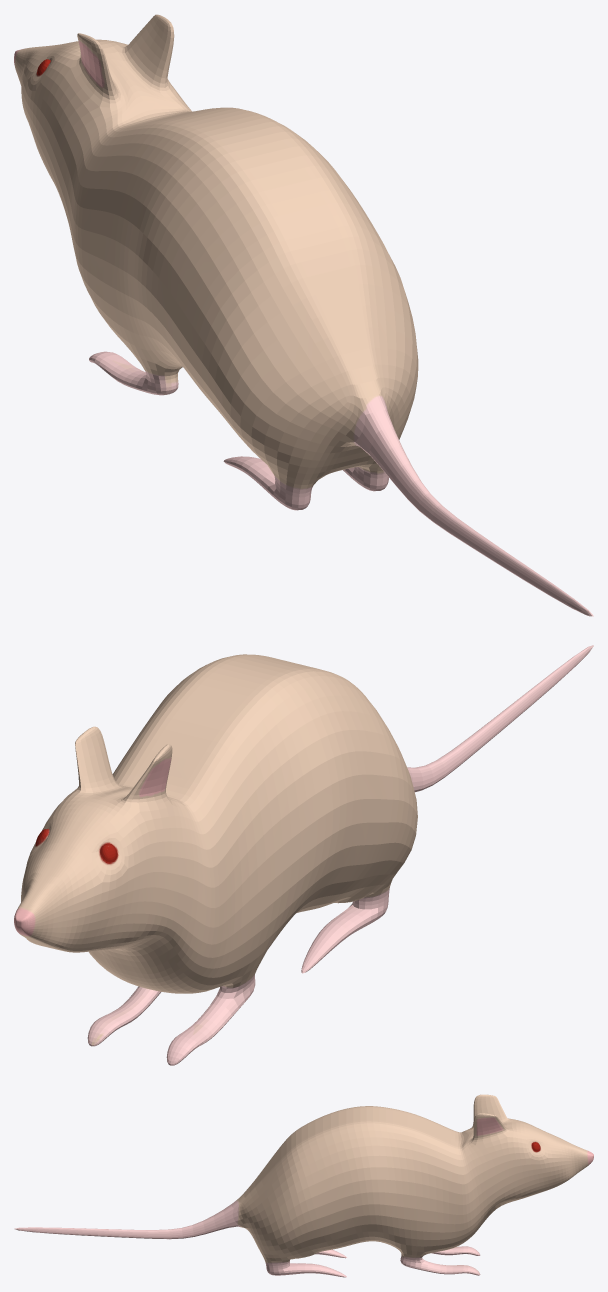
File: mouse.obj
3 renders of one model, top to bottom at view 1: azimuth 30°, elevation 25°; view 2: azimuth 150°, elevation 25°; view 3: azimuth 270°, elevation 25°, orthographic. The views are drawn at different scales.
Visible parts, largest first — view 1: mouse_2; view 2: mouse_2; view 3: mouse_2.
Part boxes in pixels (box(x1,y1,x2,y2)): mouse_2: box(14, 14, 593, 616); mouse_2: box(14, 645, 593, 1065); mouse_2: box(14, 1094, 593, 1277).
Bounding box in the file's own units: 0.00519 × 0.00824 × 0.0264.
1 material, 1 textured.
